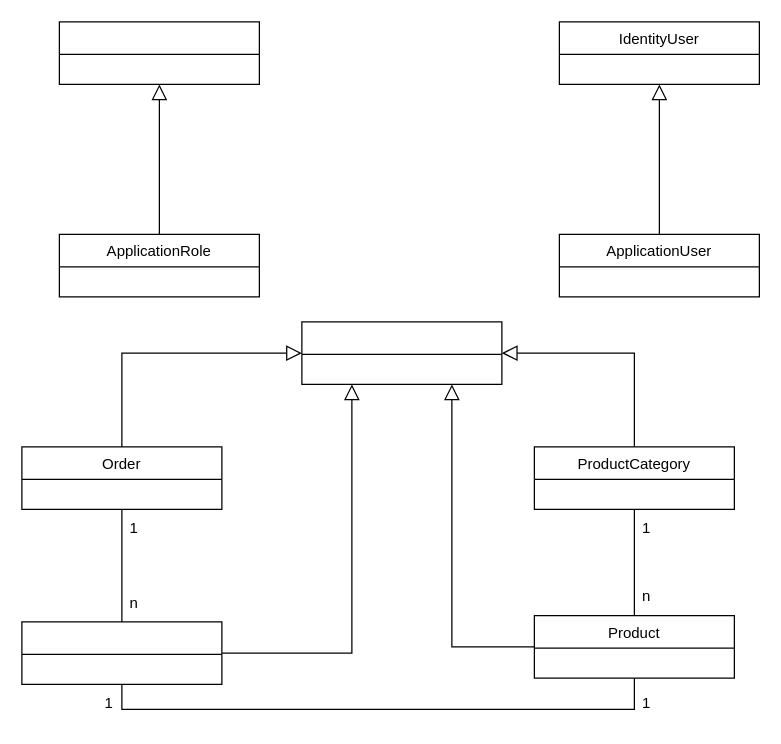
The diagram is 781 pixels wide and 744 high, and some of its shapes have lost their labels. The box of each missing label's shape, as (x1, y1, x2, y2) in pixels:
EntityBase: (301, 321, 502, 384)
IdentityRole: (58, 21, 259, 84)
OrderItem: (21, 621, 222, 684)
